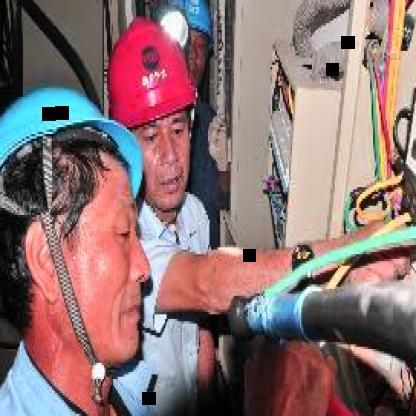helmet: (3, 69, 168, 402), (92, 12, 205, 238), (183, 0, 216, 76)
